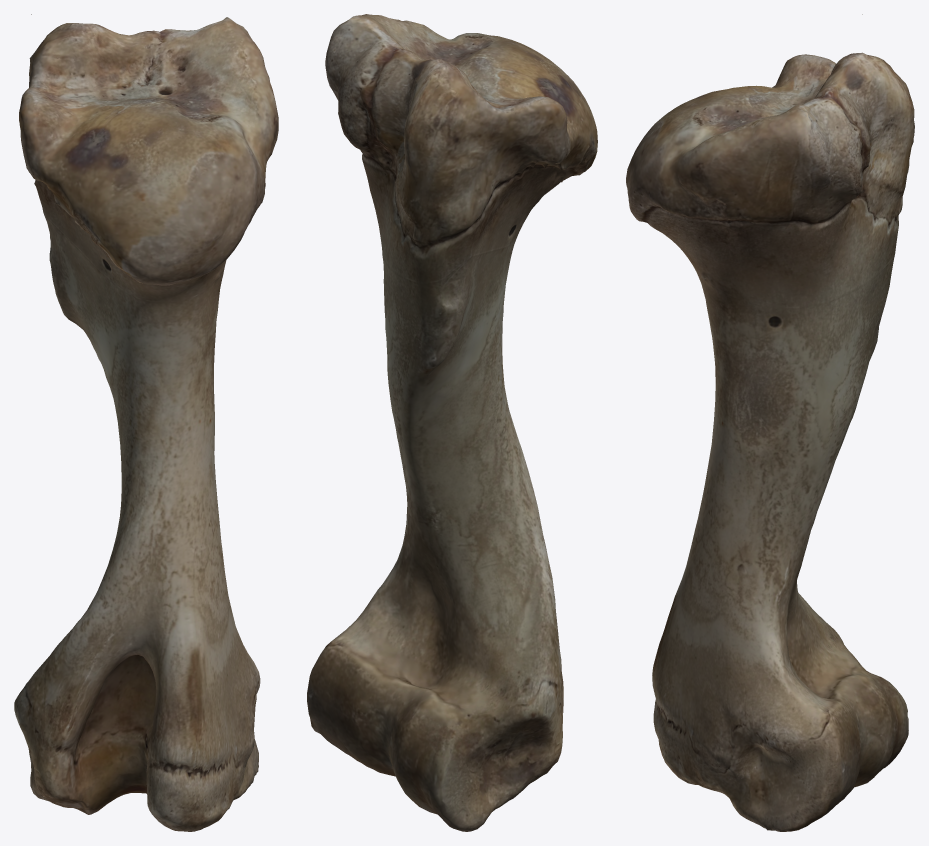
The model's file is umero-esquerdo-equino.glb.
3 renders of one model, left to right at view 1: azimuth 30°, elevation 25°; view 2: azimuth 150°, elevation 25°; view 3: azimuth 270°, elevation 25°, orthographic. The views are drawn at different scales.
Visible parts, largest first — view 1: 3DModel_LowPoly; view 2: 3DModel_LowPoly; view 3: 3DModel_LowPoly.
Boxes of the visible parts, x1,y1,x2,y2 form: 3DModel_LowPoly: (14,14,278,831); 3DModel_LowPoly: (307,14,597,831); 3DModel_LowPoly: (626,14,914,831).
Bounding box in the file's own units: 3.32 × 10.34 × 3.59.
Materials: 1 (1 with a texture image).
